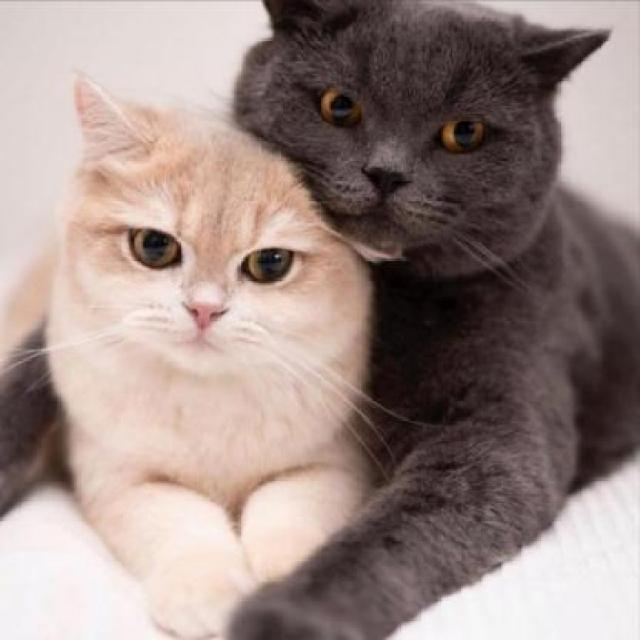cat: (10, 72, 375, 446), (230, 0, 609, 252)
